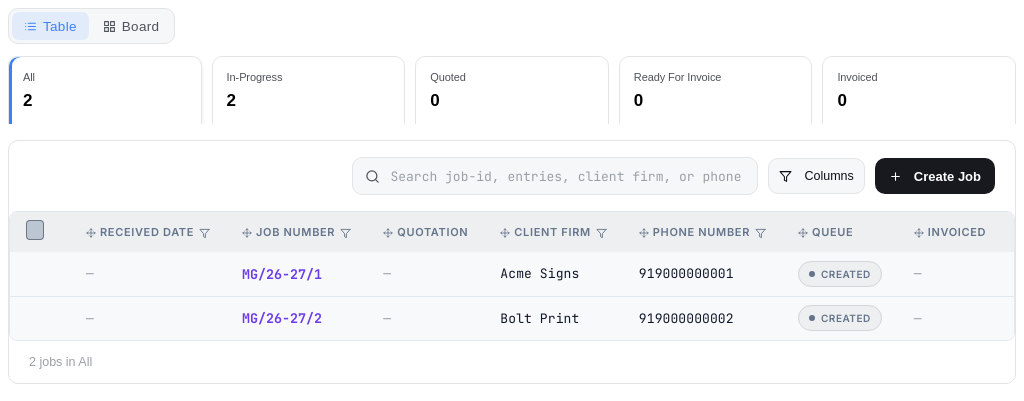
it: LifecycleIndex as it stands today › narrows the list by search
This screenshot has width=1024, height=401.
Expected: the button "MG/26-27/1" is shown, x1=242 y1=265 x2=322 y2=283
In the field with placeholder "Search job-id, entries, client firm, or phone...": (567, 176) x1=388 y1=168 x2=746 y2=184, type "Bolt"
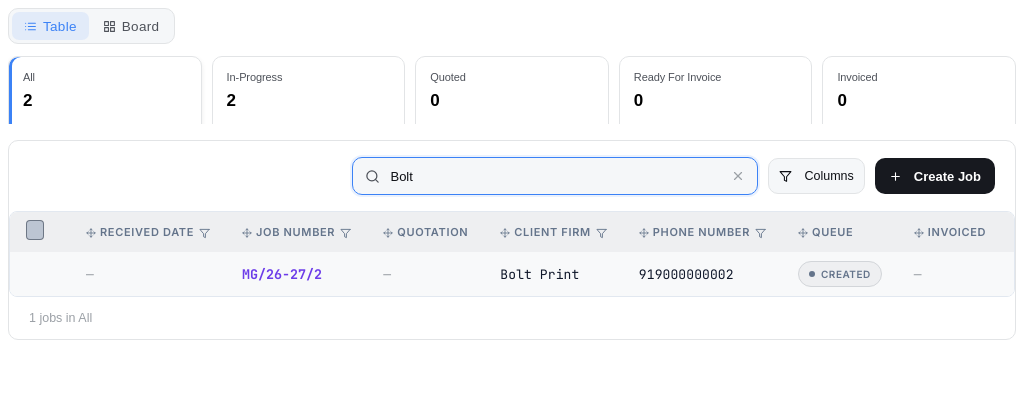
Expected: the button "MG/26-27/2" is shown, x1=242 y1=265 x2=322 y2=283
Expected: the button "MG/26-27/1" is gone
